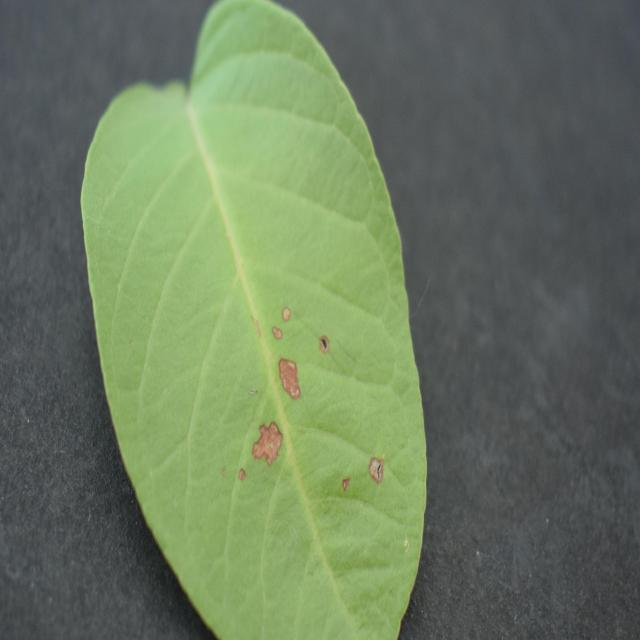Dot: (81, 2, 426, 639)
